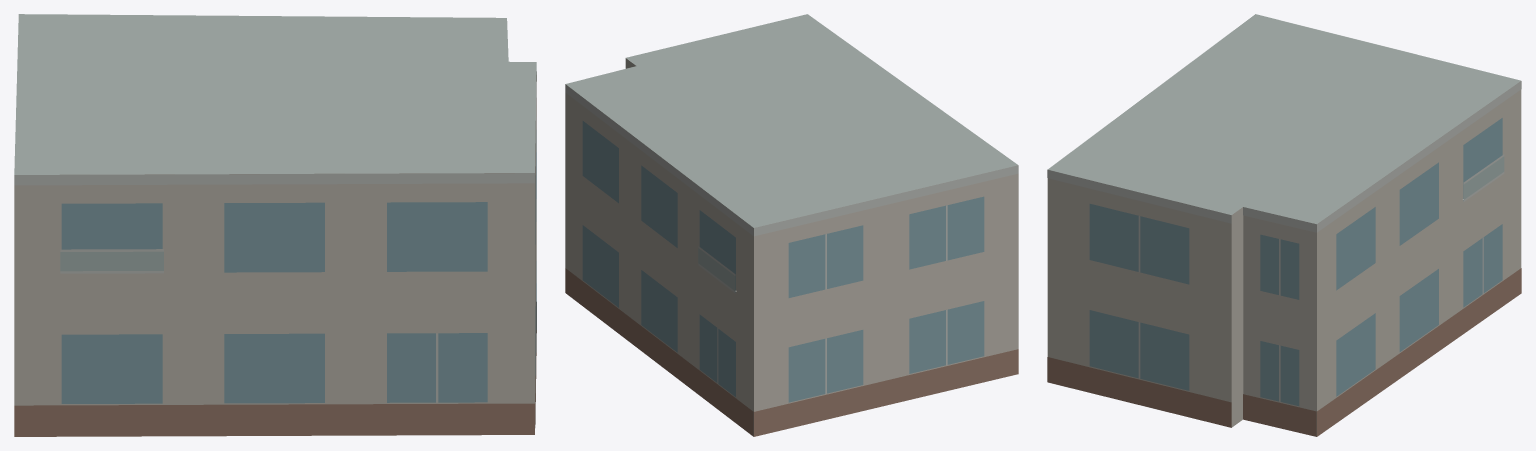
File: survey-upis-32668209.glb
3 views of the same model, side by side, from view 1: azimuth 30°, elevation 25°; view 2: azimuth 150°, elevation 25°; view 3: azimuth 270°, elevation 25° (orthographic). The views are drawn at different scales.
Visible parts, largest first — view 1: survey-upis-32668209.tmp; view 2: survey-upis-32668209.tmp; view 3: survey-upis-32668209.tmp.
Boxes of the visible parts, x1,y1,x2,y2 form: survey-upis-32668209.tmp: (14, 14, 536, 436); survey-upis-32668209.tmp: (565, 14, 1018, 436); survey-upis-32668209.tmp: (1047, 14, 1521, 436).
Size of the model in its own units: 12.94 by 6.1 by 12.33.
